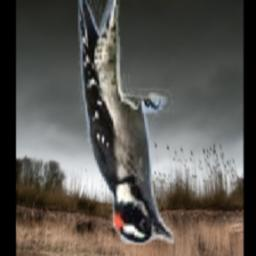Woodpecker: (78, 0, 174, 245)
